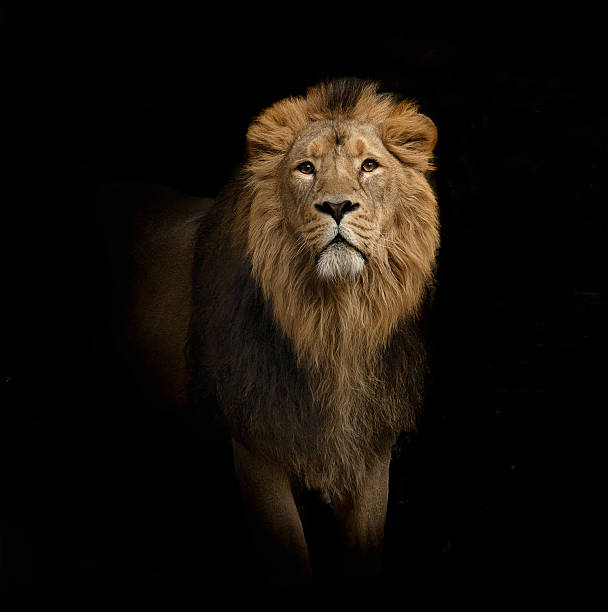lion: (210, 63, 463, 517)
